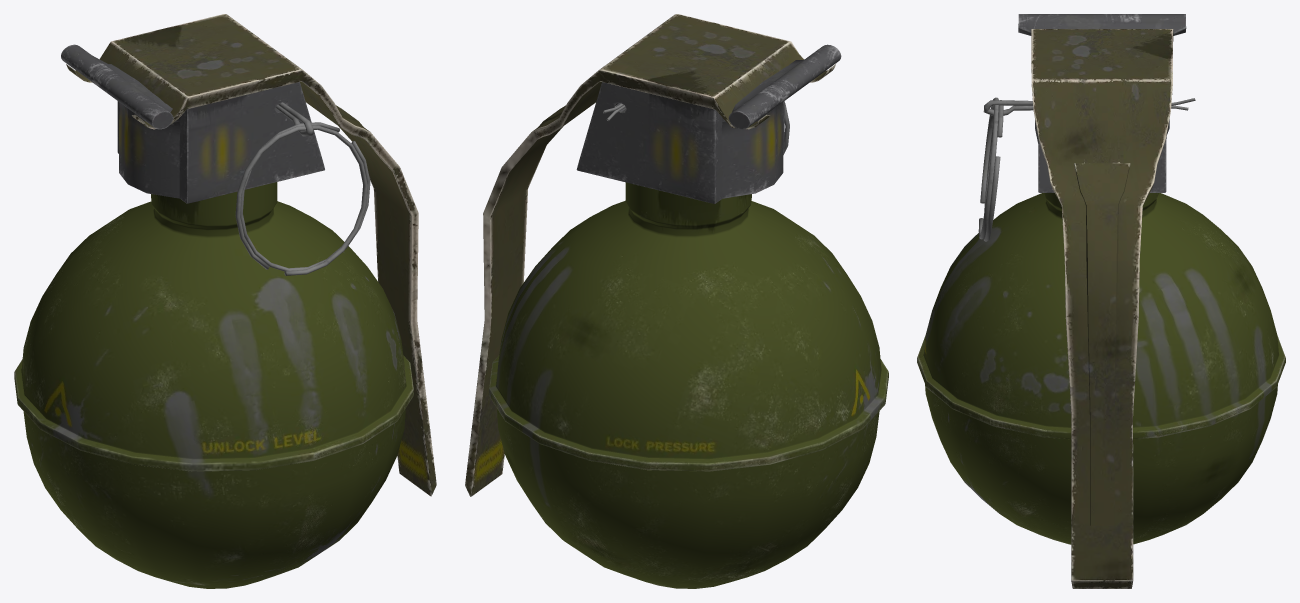
The model's file is frag_grenade.glb.
3 renders of one model, left to right at view 1: azimuth 30°, elevation 25°; view 2: azimuth 150°, elevation 25°; view 3: azimuth 270°, elevation 25°, orthographic. The views are drawn at different scales.
Parts seen in each view (by area): view 1: frag_grenade_0, frag_grenade_2, frag_grenade_1, frag_grenade_4; view 2: frag_grenade_0, frag_grenade_2, frag_grenade_1; view 3: frag_grenade_0, frag_grenade_2, frag_grenade_1, frag_grenade_4, frag_grenade_3.
Boxes of the visible parts, <box> form: frag_grenade_0: <box>14,182,413,588</box>; frag_grenade_2: <box>66,14,436,496</box>; frag_grenade_1: <box>61,44,324,203</box>; frag_grenade_4: <box>235,122,370,275</box>; frag_grenade_0: <box>488,182,888,588</box>; frag_grenade_2: <box>465,14,835,496</box>; frag_grenade_1: <box>576,44,841,203</box>; frag_grenade_0: <box>917,193,1285,544</box>; frag_grenade_2: <box>1031,29,1173,588</box>; frag_grenade_1: <box>1018,14,1186,192</box>; frag_grenade_4: <box>978,97,1003,241</box>; frag_grenade_3: <box>983,98,1195,115</box>.
Bounding box in the file's own units: 0.0695 × 0.089 × 0.0636.
Materials: 1 (1 with a texture image).
